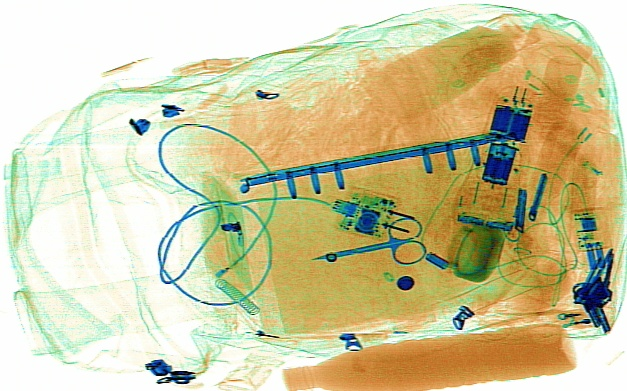lighter: (549, 305, 602, 333)
scissors: (310, 216, 427, 266)
